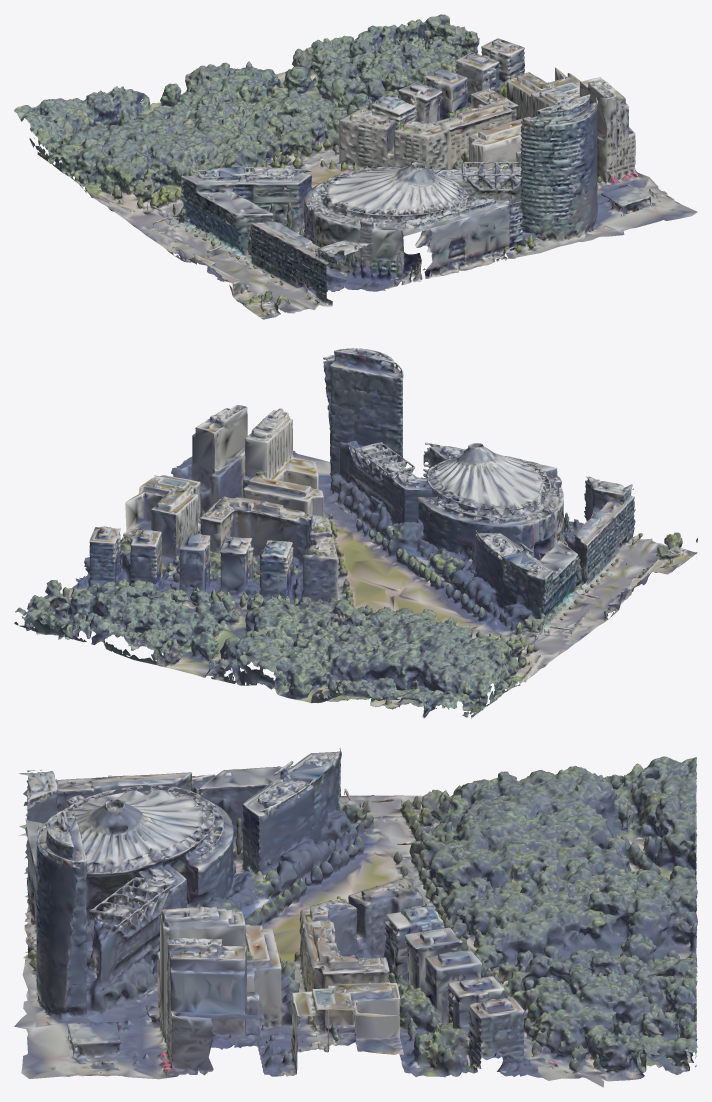
File: surface-detail-3894_58189.glb
3 renders of one model, top to bottom at view 1: azimuth 30°, elevation 25°; view 2: azimuth 150°, elevation 25°; view 3: azimuth 270°, elevation 25°, orthographic. The views are drawn at different scales.
Visible parts, largest first — view 1: world; view 2: world; view 3: world.
Boxes of the visible parts, bbox=[...] form: world: bbox=[14, 14, 697, 319]; world: bbox=[14, 348, 697, 718]; world: bbox=[14, 747, 697, 1087].
Size of the model in its own units: 374 by 115 by 369.
